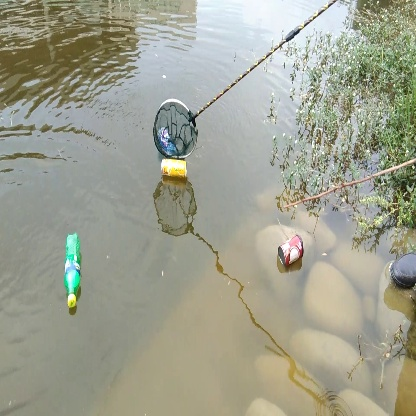bottle: (59, 232, 85, 309), (275, 232, 307, 268), (156, 156, 190, 180)
